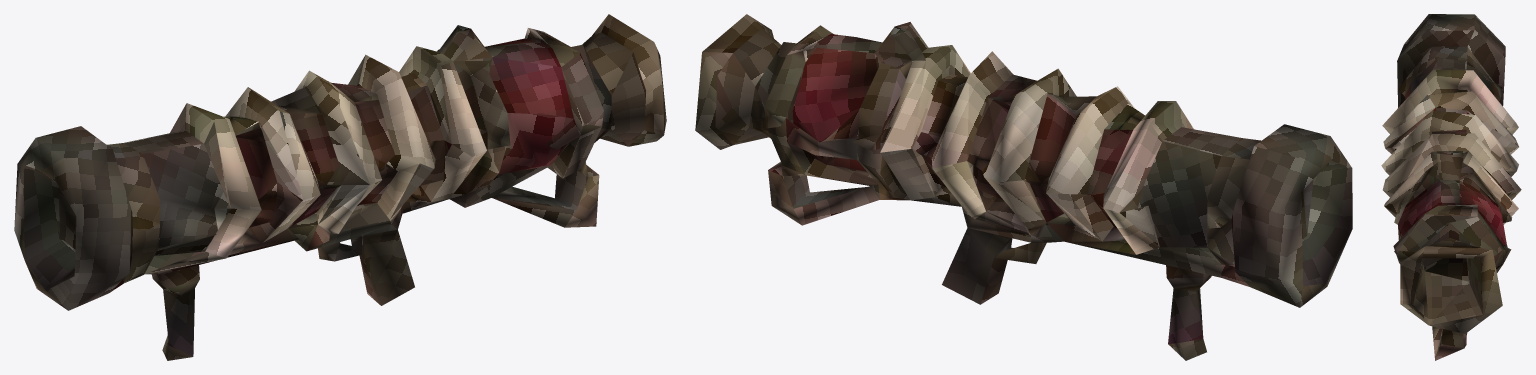
File: BFG.fbx
3 renders of one model, left to right at view 1: azimuth 30°, elevation 25°; view 2: azimuth 150°, elevation 25°; view 3: azimuth 270°, elevation 25°, orthographic. The views are drawn at different scales.
Visible parts, largest first — view 1: Mesh_0; view 2: Mesh_0; view 3: Mesh_0.
Boxes of the visible parts, x1,y1,x2,y2 form: Mesh_0: (14, 14, 666, 360); Mesh_0: (695, 14, 1352, 360); Mesh_0: (1381, 14, 1521, 360).
Bounding box in the file's own units: 190 × 77.45 × 51.4.
